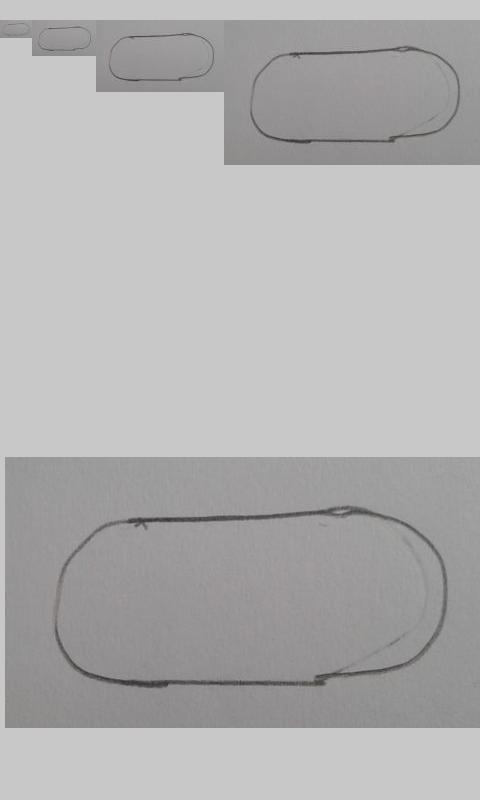chip: (53, 505, 449, 687), (248, 46, 462, 145), (108, 33, 215, 82), (37, 26, 92, 52), (1, 23, 31, 37)
